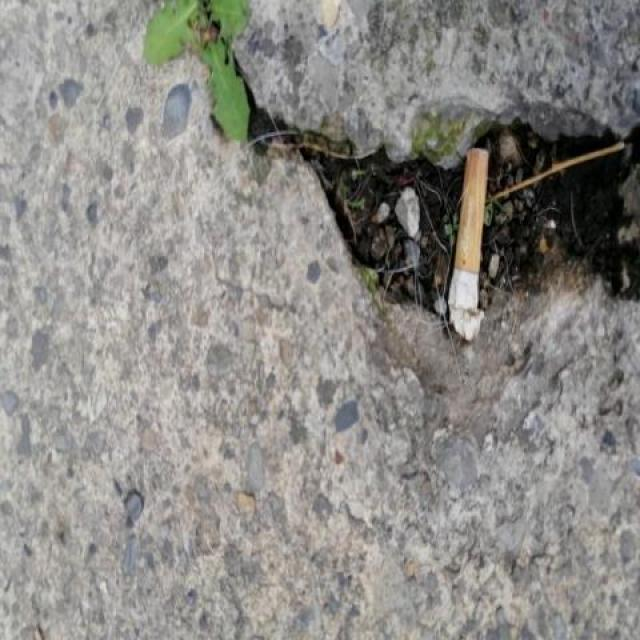non-organic waste: (440, 138, 500, 350)
